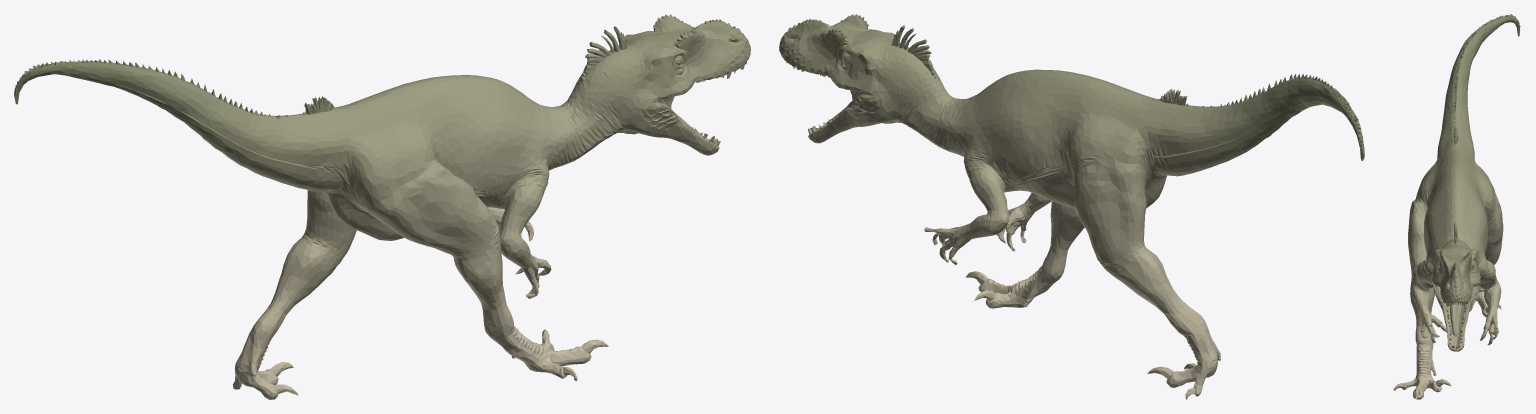
The model's file is megalosaurus.glb.
3 renders of one model, left to right at view 1: azimuth 30°, elevation 25°; view 2: azimuth 150°, elevation 25°; view 3: azimuth 270°, elevation 25°, orthographic. The views are drawn at different scales.
Visible parts, largest first — view 1: world; view 2: world; view 3: world.
Part boxes in pixels (x1,y1,x2,y2): world: [14, 14, 750, 399]; world: [779, 14, 1364, 399]; world: [1393, 14, 1520, 399].
Bounding box in the file's own units: 10 × 5.17 × 2.49.
